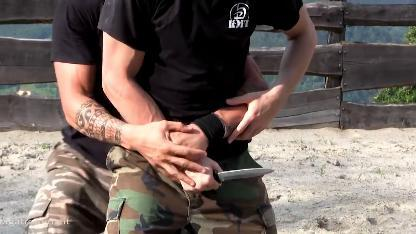knife: (182, 160, 278, 194)
